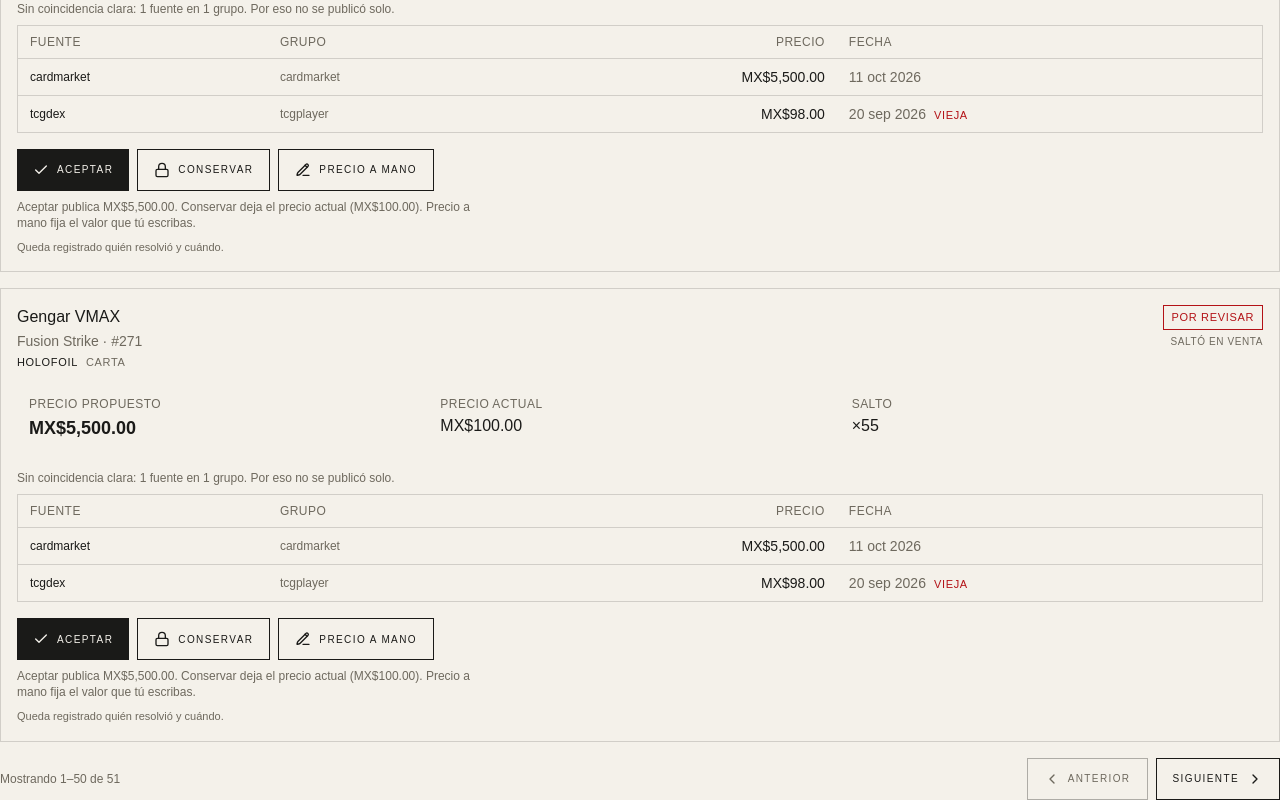
§PRE · Precios por revisar › usa `total` del servidor: «Mostrando 1–50 de 51» y pasa a la página 2 sin perder el caso 51
The width and height of the screenshot is (1280, 800).
(page scrolled)
Check: the text with test id "price-review-page-info" reads "Mostrando 1–50 de 51", box [0,772,120,786]
Pasar a la página 2: el dueño llega al caso 51, que sin paginación quedaba oculto.
Step 1. Click the button "Siguiente" → click(1218, 779), box [1156,758,1279,799]
(page scrolled)
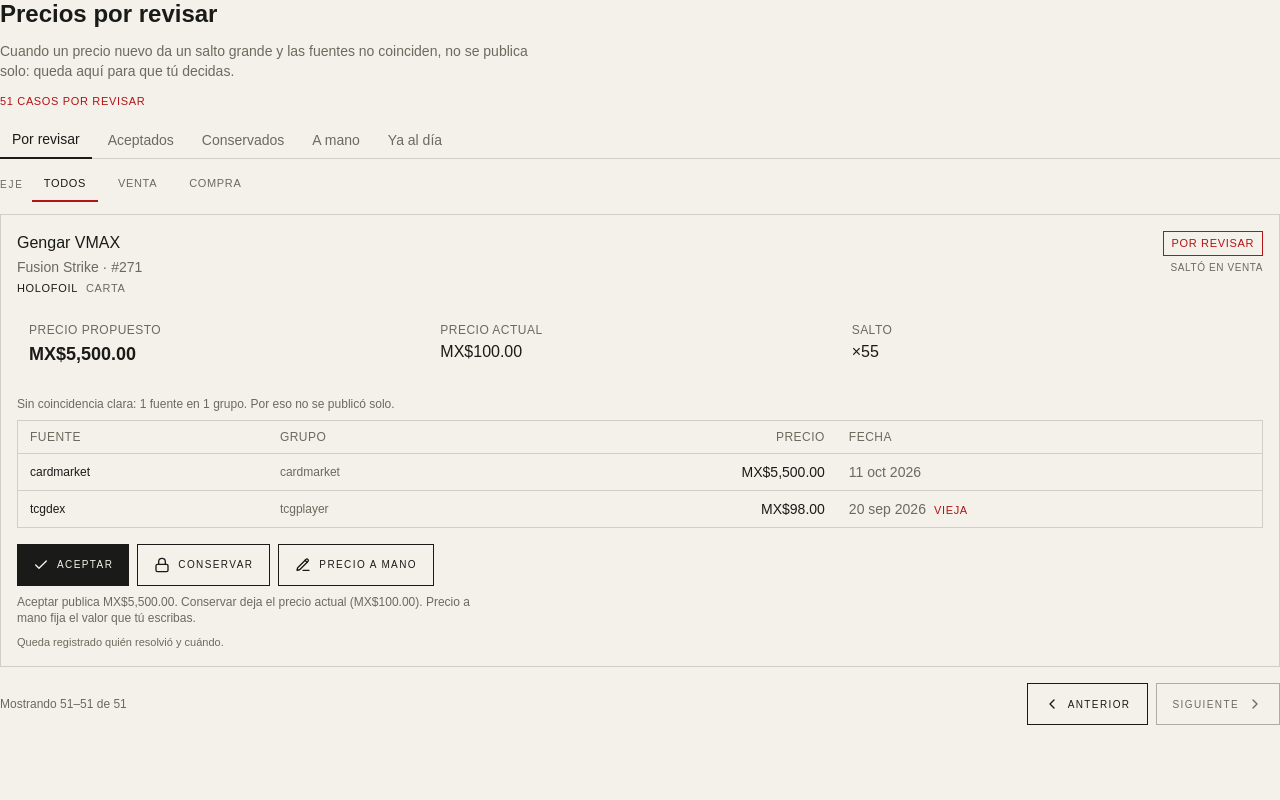
Check: the element with test id "price-review-case-prc-51" is shown, box [0,214,1279,667]
Check: the text with test id "price-review-page-info" reads "Mostrando 51–51 de 51", box [0,697,127,711]
